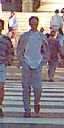person: (14, 15, 44, 112)
